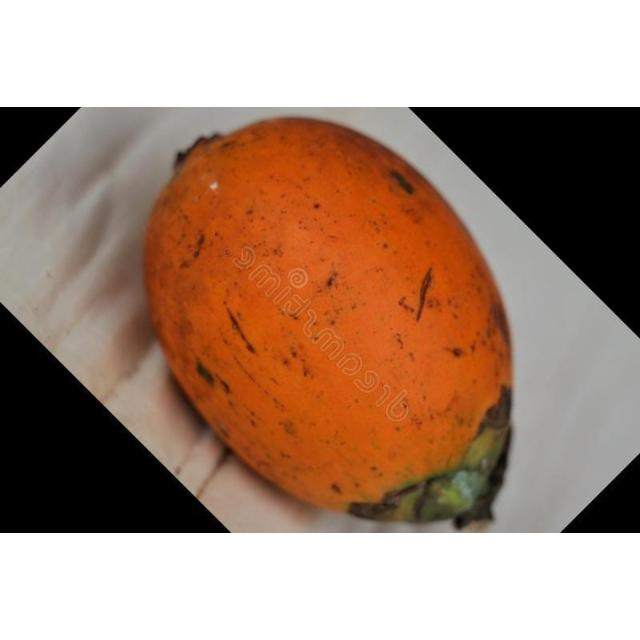good: (140, 117, 515, 528)
